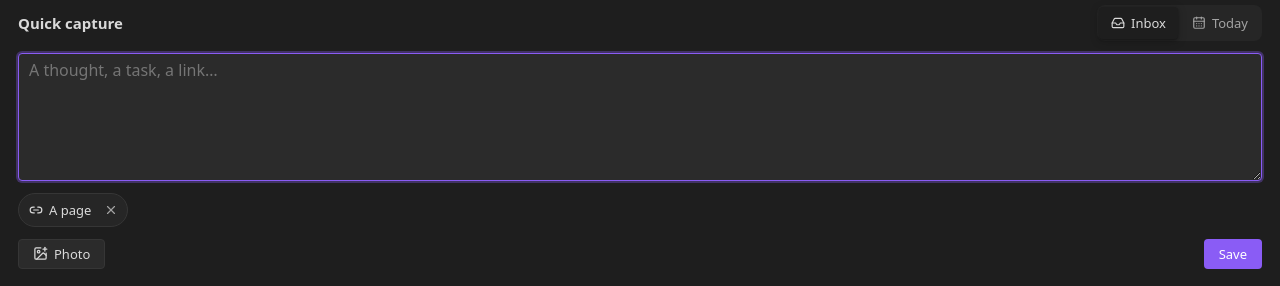
Scenario: quick capture form › shows a shared link and can drop it
expect the text "A page" is shown: met, box 49,201 -> 91,219
expect the button "Save" is enabled: met, box 1204,239 -> 1262,269
Click the button named "Remove the link" at (111, 210), box 97,196 -> 125,224
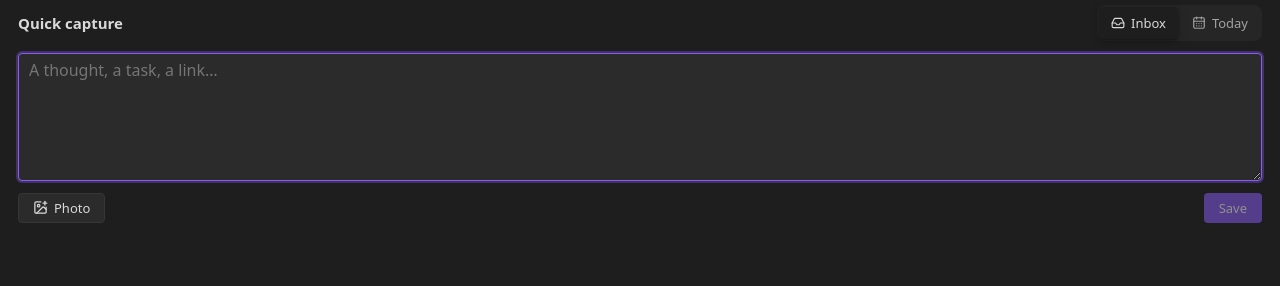
expect the text "A page" is gone: met
expect the button "Save" is disabled: met, box 1204,193 -> 1262,223
